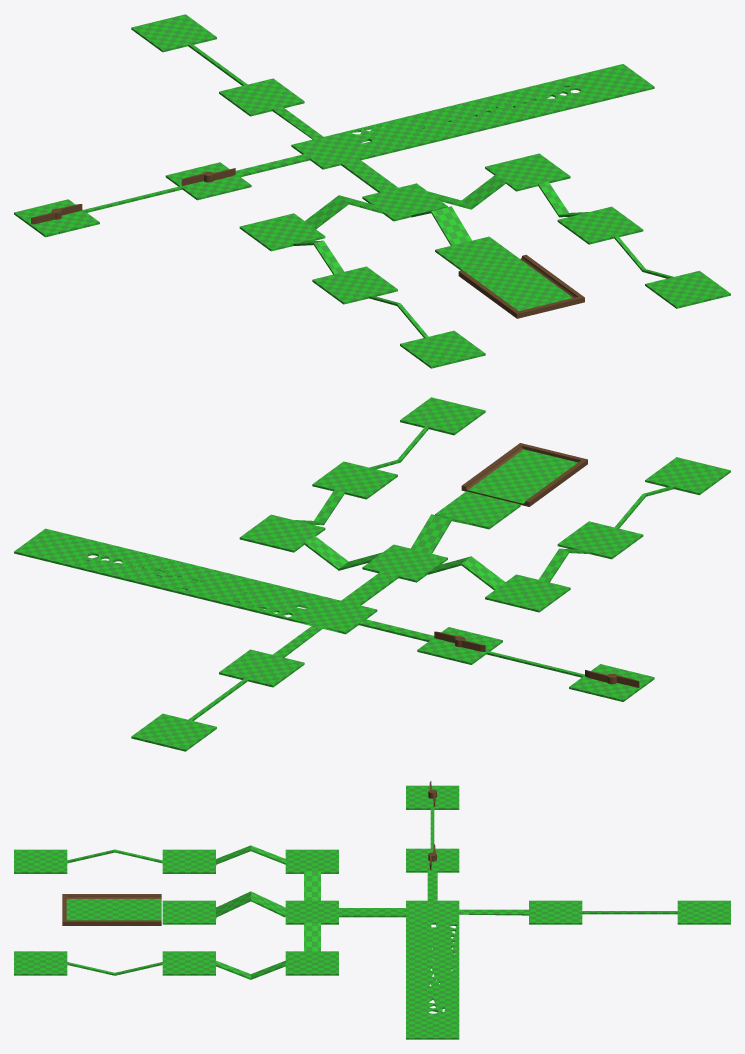
Rendered from Level_Collectible01.fbx.
3 views of the same model, one above another, from view 1: azimuth 30°, elevation 25°; view 2: azimuth 150°, elevation 25°; view 3: azimuth 270°, elevation 25° (orthographic). The views are drawn at different scales.
Parts seen in each view (by area): view 1: BasePlate, 01_Starting Platform; view 2: BasePlate, 01_Starting Platform; view 3: BasePlate, 01_Starting Platform.
Part boxes in pixels (left/top/right/bottom): BasePlate: left=14, top=14, right=730, bottom=368; 01_Starting Platform: left=458, top=254, right=584, bottom=318; BasePlate: left=14, top=397, right=730, bottom=751; 01_Starting Platform: left=461, top=443, right=587, bottom=506; BasePlate: left=14, top=785, right=730, bottom=1039; 01_Starting Platform: left=62, top=894, right=161, bottom=925.
Size of the model in its own units: 39749 by 2420 by 47749.
